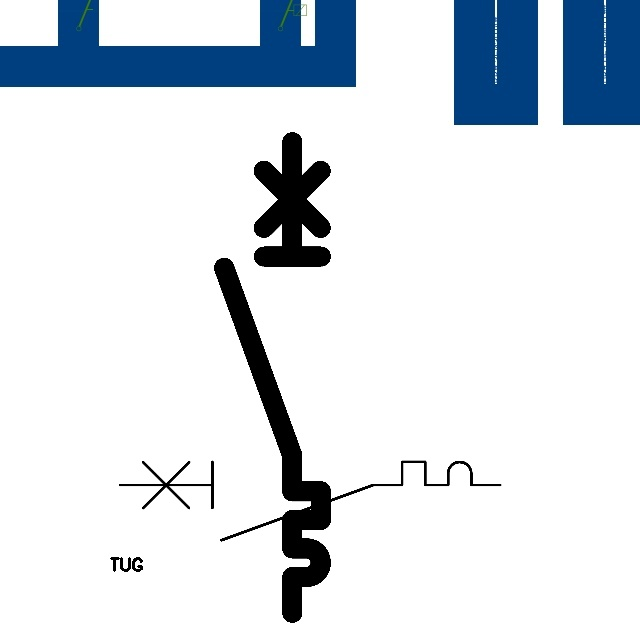interruptor_termomagnetico: (212, 130, 333, 625), (110, 452, 510, 550)
